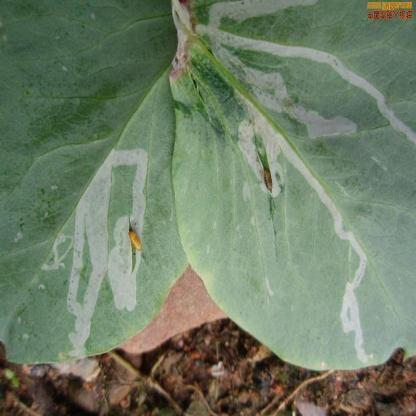whorl-maggot: (258, 162, 277, 196), (128, 223, 144, 256)
